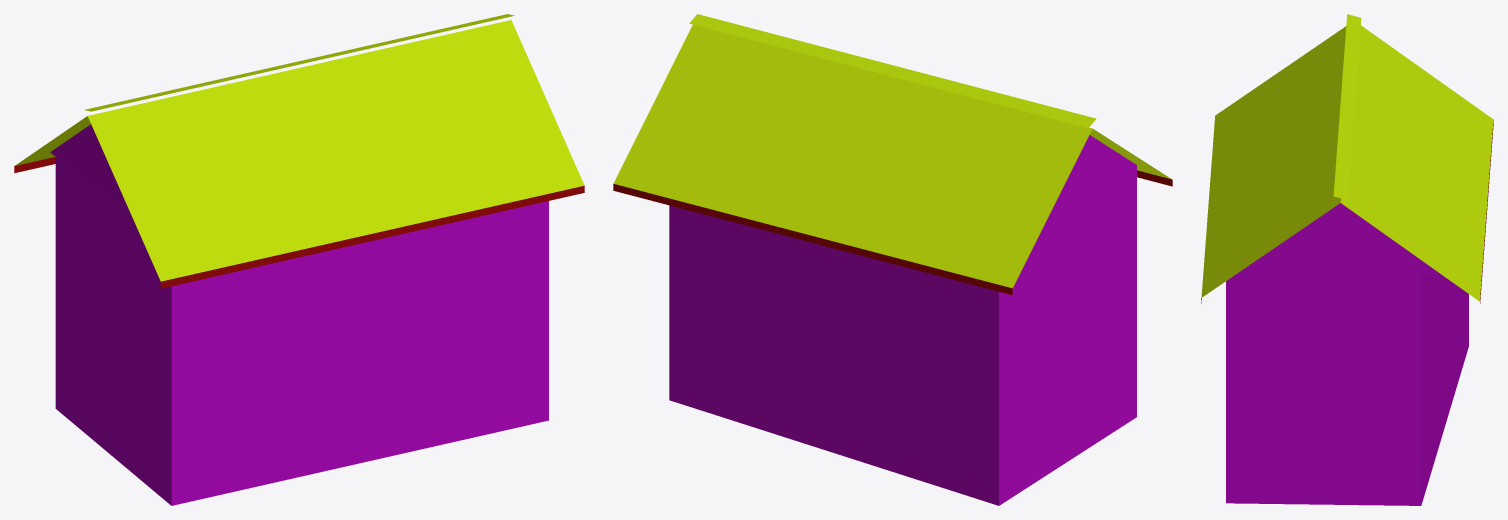
The model's file is scl_112.glb.
The picture shows the model from 3 angles, left to right: view 1: azimuth 30°, elevation 25°; view 2: azimuth 150°, elevation 25°; view 3: azimuth 270°, elevation 25°; orthographic projection. The views are drawn at different scales.
Parts seen in each view (by area): view 1: scl_112; view 2: scl_112; view 3: scl_112.
Boxes of the visible parts, <box> form: scl_112: <box>14,14,584,505</box>; scl_112: <box>613,14,1172,505</box>; scl_112: <box>1201,14,1493,505</box>.
Size of the model in its own units: 7.44 by 5.93 by 4.93.
